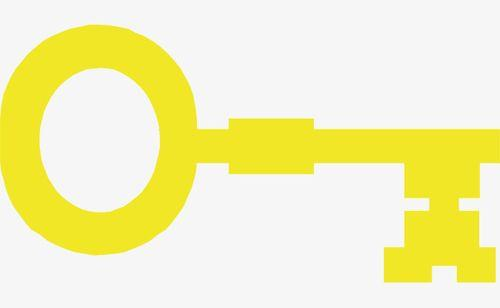key: (1, 20, 498, 298)
